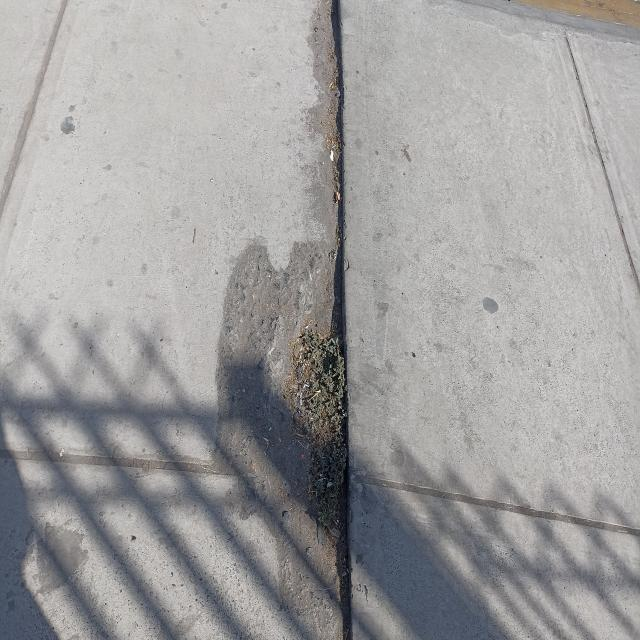hole: (215, 238, 355, 612)
